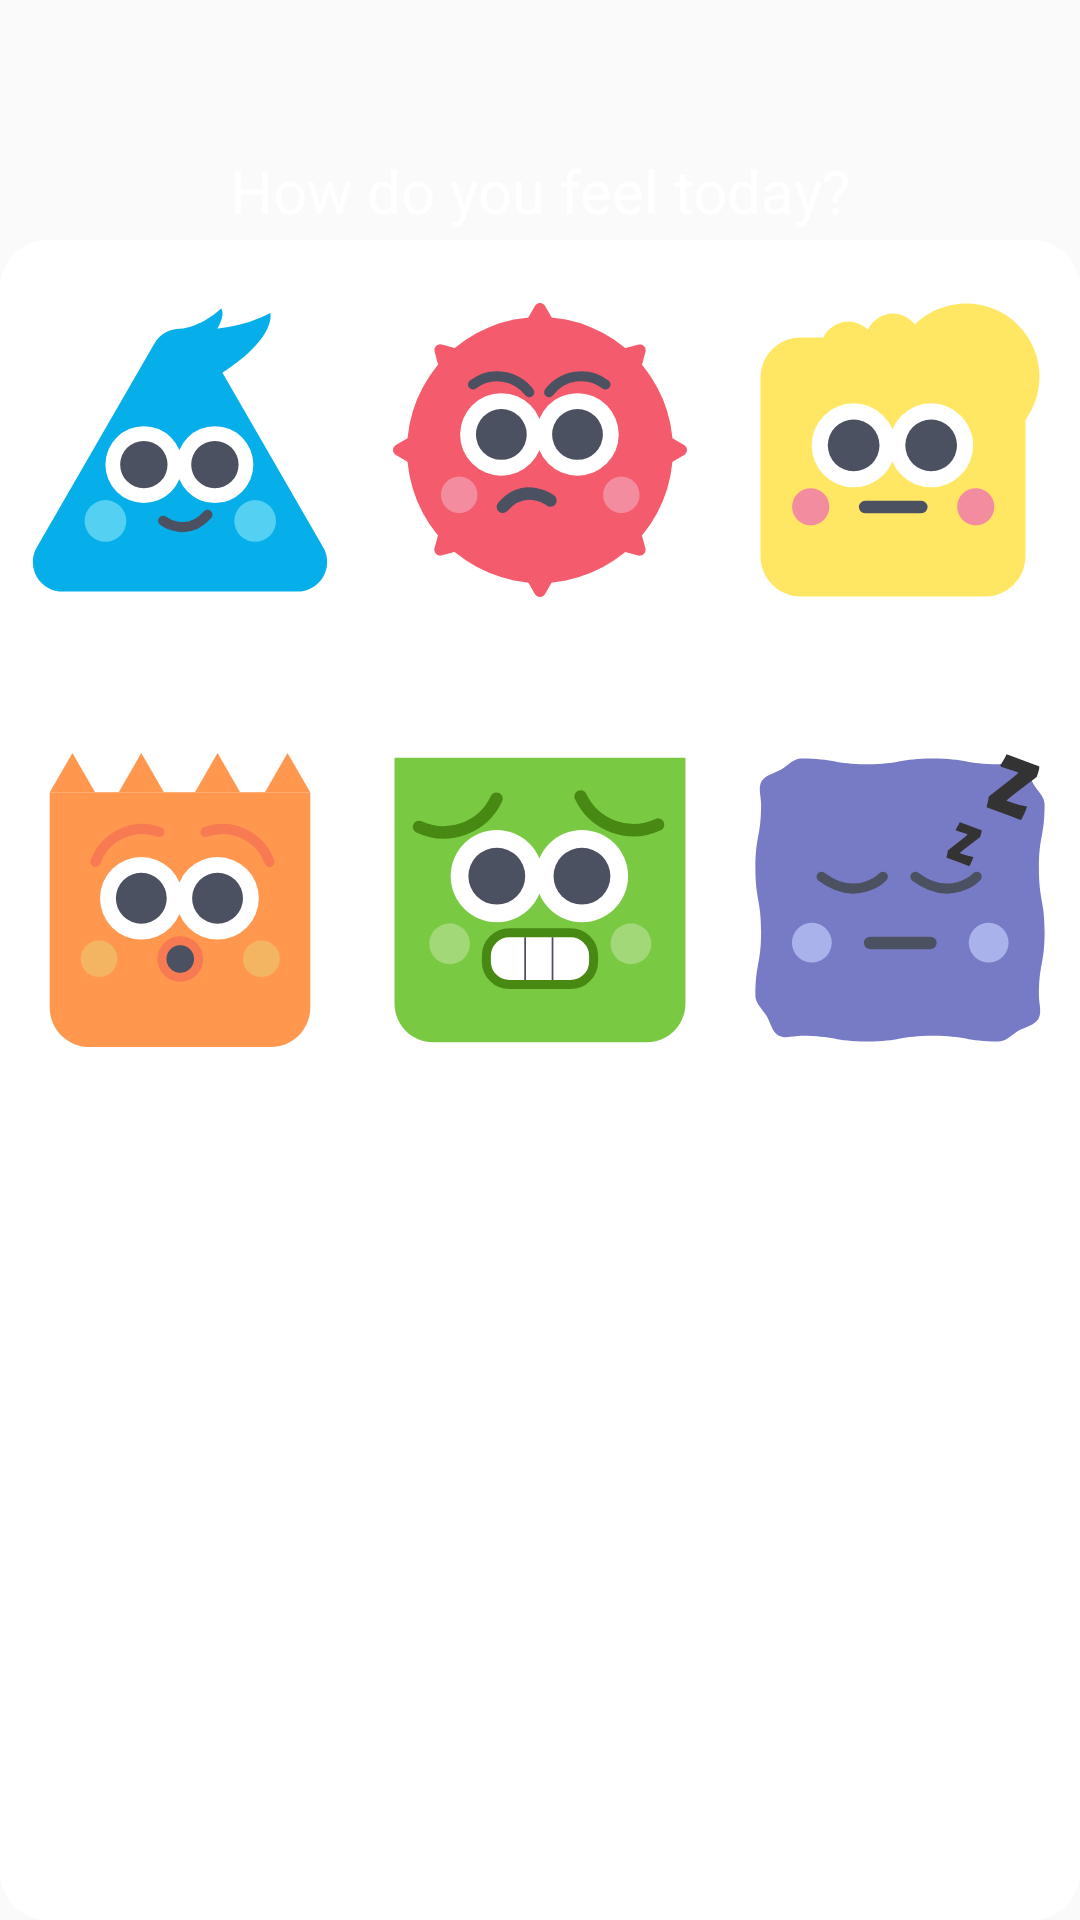

Icon bounding boxes for this 1080×1920 phone screenshot, format BBox(x1, y1, x2, y2):
frown: BBox(393, 303, 687, 597)
meh: BBox(760, 303, 1040, 597)
nervous: BBox(394, 757, 686, 1043)
sleepy: BBox(755, 754, 1045, 1042)
smile: BBox(32, 308, 328, 592)
surprised: BBox(49, 753, 311, 1047)
